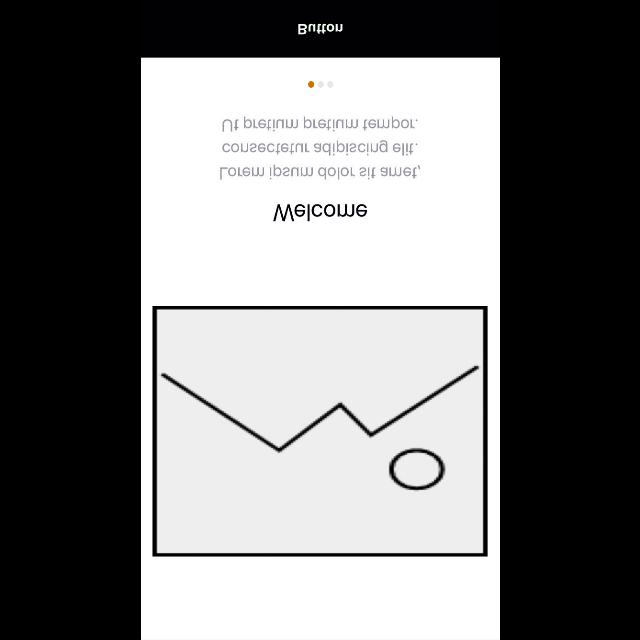image: (152, 306, 488, 556)
pageindicator: (307, 80, 333, 88)
text: (218, 116, 422, 180), (272, 204, 366, 222)
textbutton: (140, 0, 500, 58)
